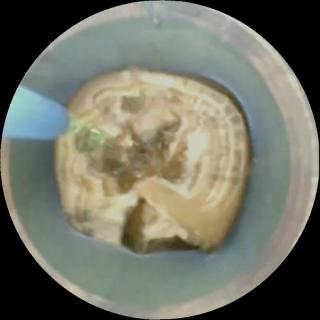fiber: (3, 88, 68, 138)
stone: (56, 67, 249, 251)
